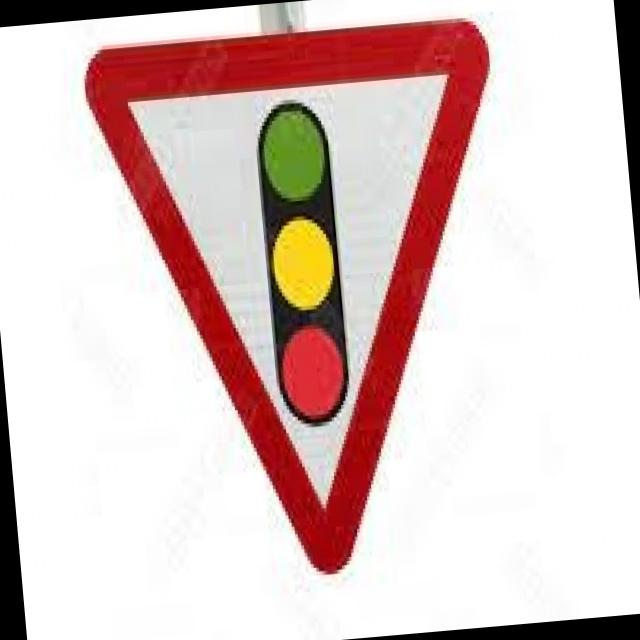light_traffic: (75, 6, 536, 598)
